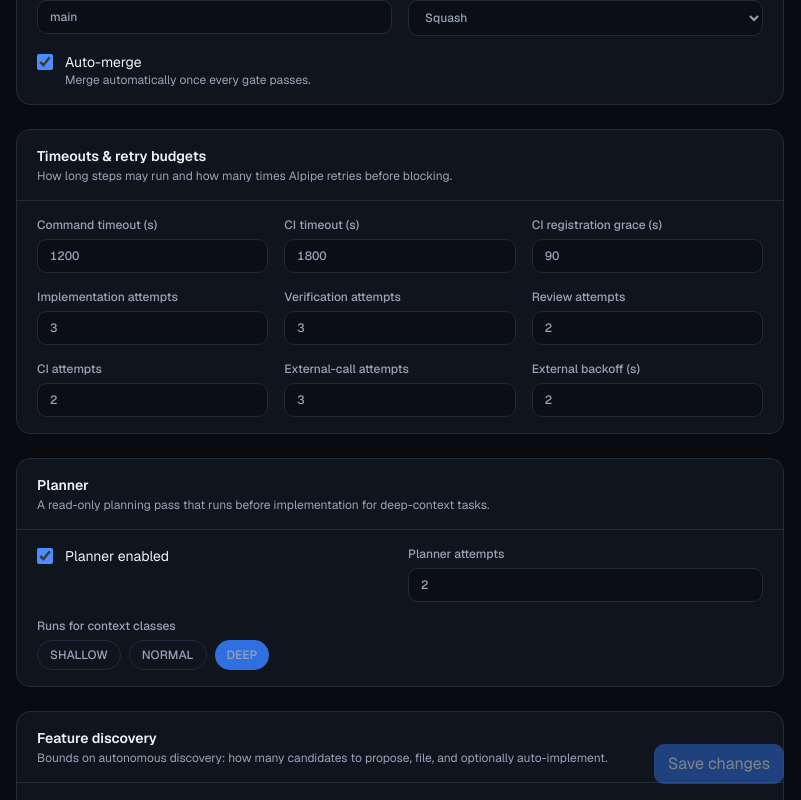
Test case: Project settings page › clamps numeric input to the field's allowed range on blur
(page scrolled)
Expected: the field showing "main" is shown, [37,0,392,34]
Replace the text in the number field labelled "CI attempts" with "99" at (153, 400), box [37,383,268,417]
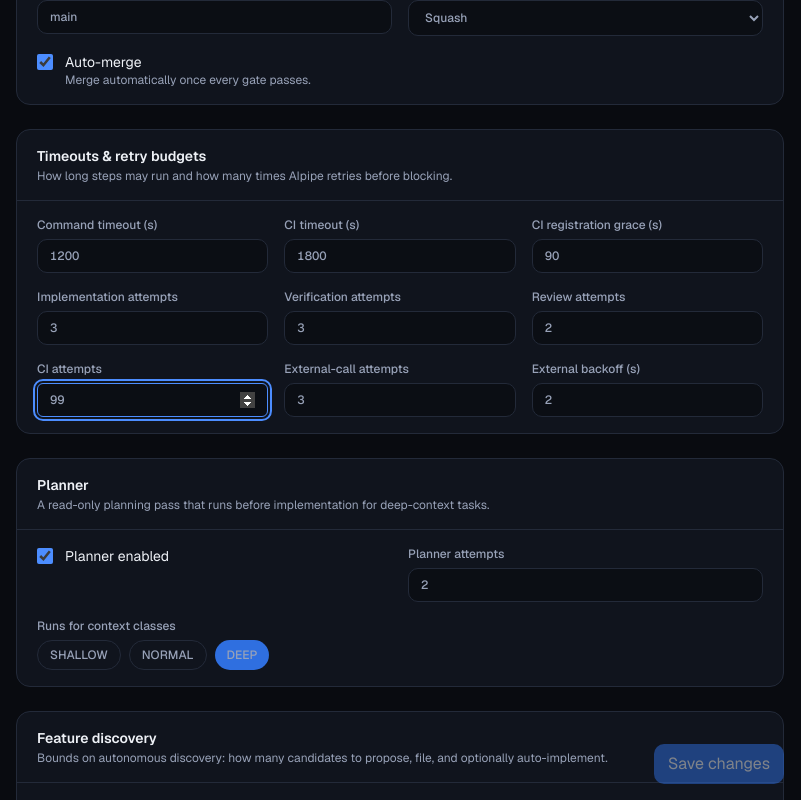
Press Tab
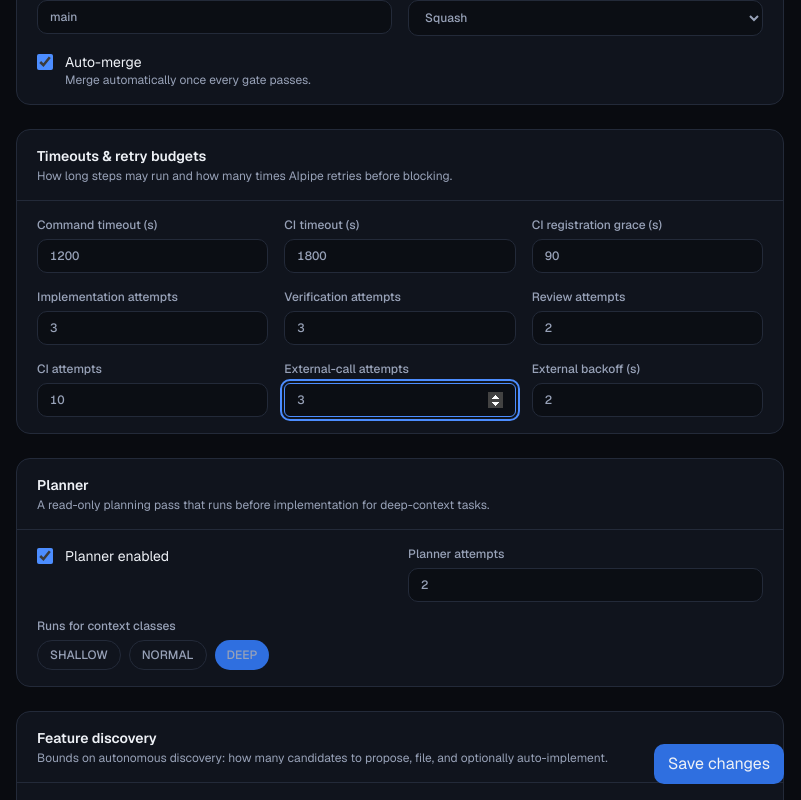
Expected: the number field labelled "CI attempts" holds "10", [37,383,268,417]
